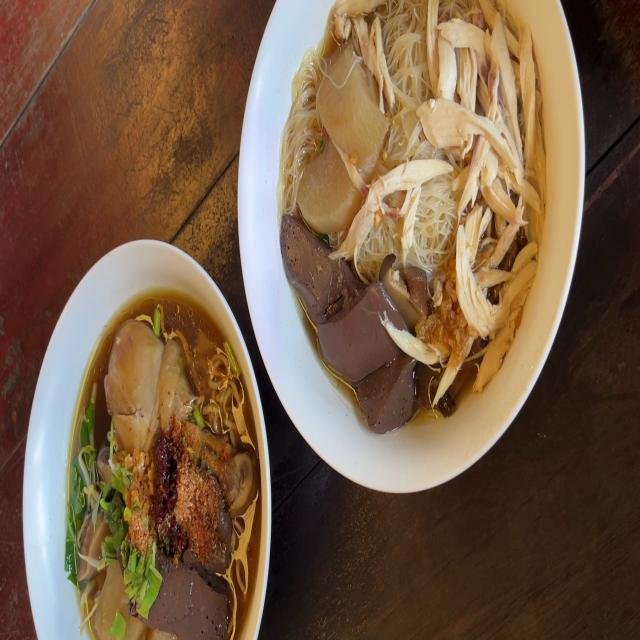boiled_chicken_blood_jelly: (280, 215, 356, 324), (317, 286, 402, 372), (156, 557, 227, 640), (359, 359, 413, 422)
chicken_drumstick: (106, 324, 254, 510)
chicken_shredded: (422, 0, 543, 349), (342, 159, 447, 250), (329, 0, 383, 42)
daikon_radish: (319, 51, 385, 174), (299, 144, 353, 227), (96, 565, 138, 640)
noodle: (288, 0, 563, 421), (64, 300, 262, 640)
